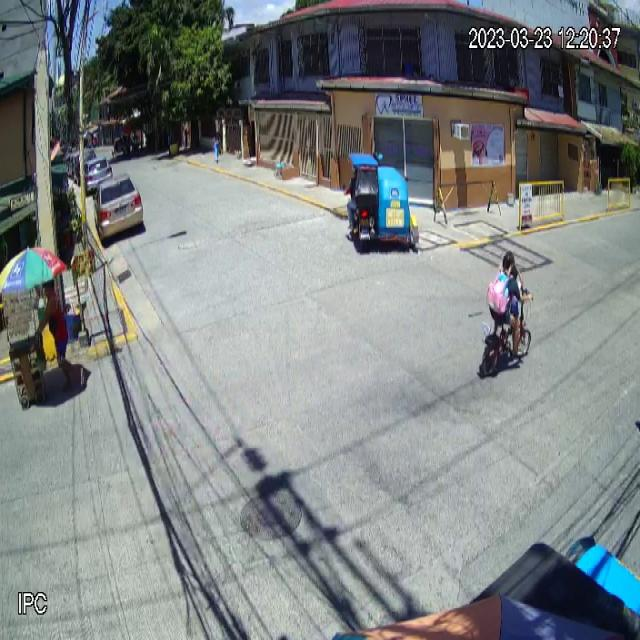Tricycle: (344, 153, 420, 249)
